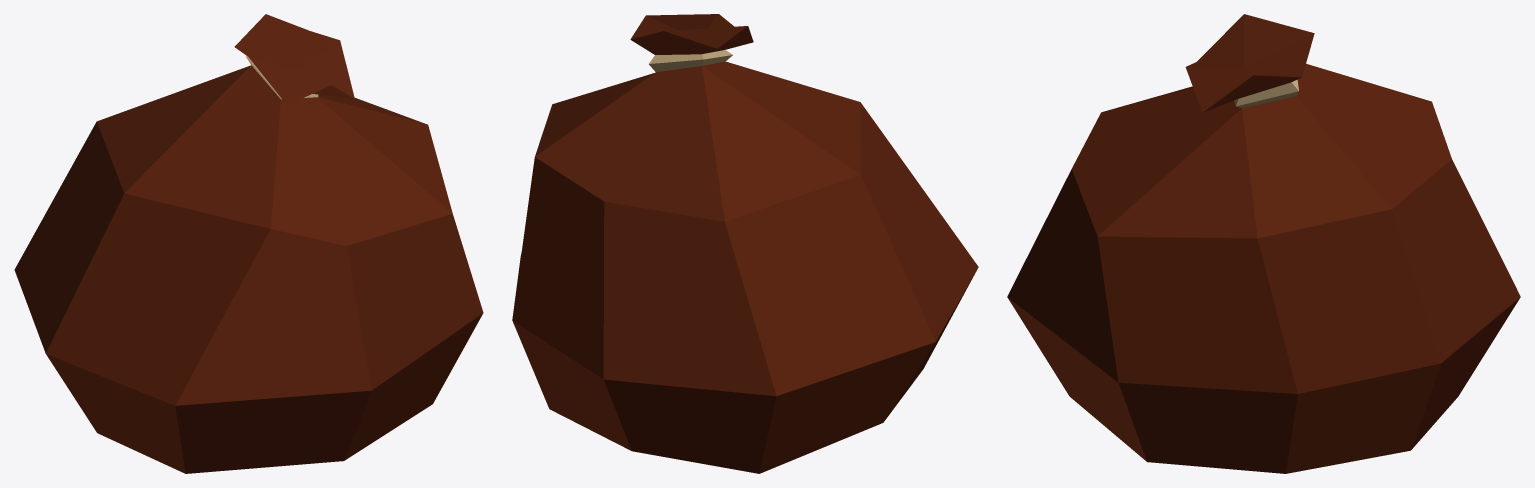
Rendered from gunny_sack.obj.
3 renders of one model, left to right at view 1: azimuth 30°, elevation 25°; view 2: azimuth 150°, elevation 25°; view 3: azimuth 270°, elevation 25°, orthographic. The views are drawn at different scales.
Parts seen in each view (by area): view 1: Cube; view 2: Cube; view 3: Cube.
Part boxes in pixels (x1=…): Cube: x1=14, y1=14, x2=483, y2=473; Cube: x1=512, y1=14, x2=978, y2=473; Cube: x1=1007, y1=14, x2=1520, y2=473.
Bounding box in the file's own units: 2.5 × 2.17 × 2.64.
